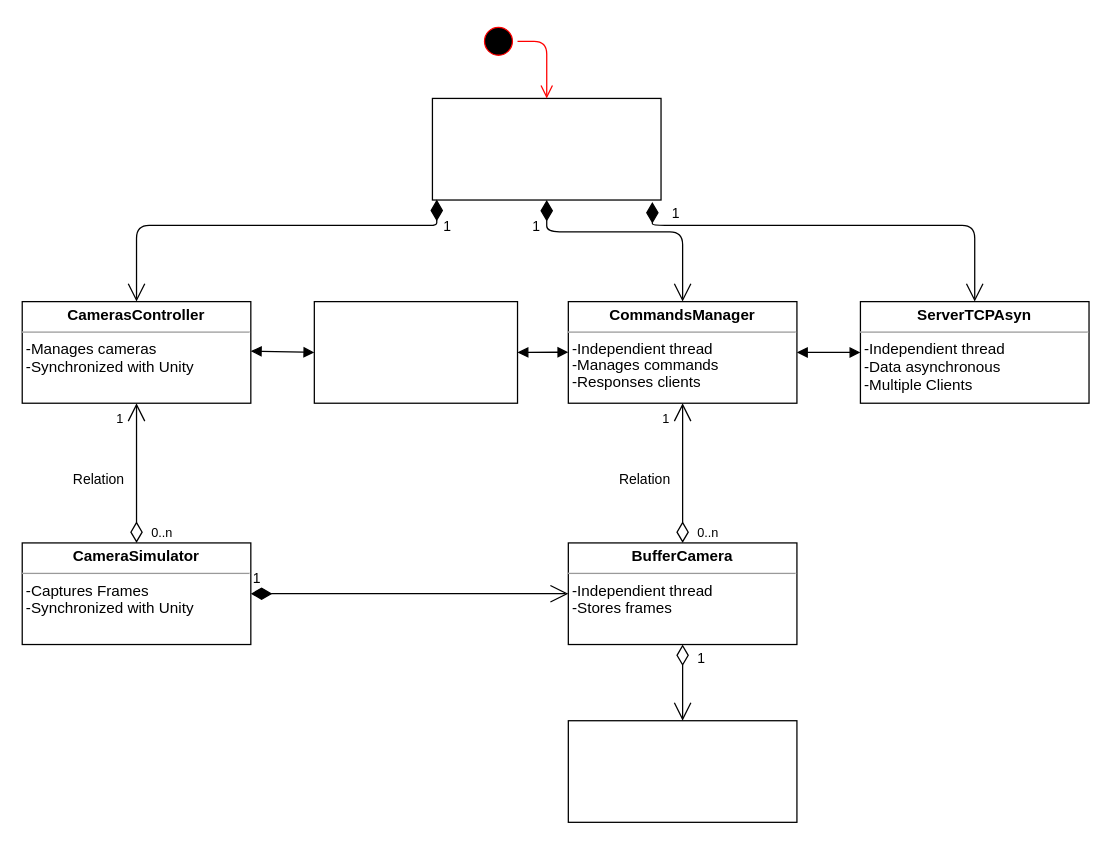
This 1111x845 diagram has some shape labels left out. Here are the shapes that lost their labels. From the top down, the centre of each, then its label:
At (546,148): "StartApp -Initializes Simulator -Includes a GUI -Synchronized with Unity".
At (415,351): "ThreadPool -Tasks (create camera, delete, edit)".
At (682,770): "CustomEncoder -JPEG (Libturbo-jpeg) -PNG (.NET encoder)".
